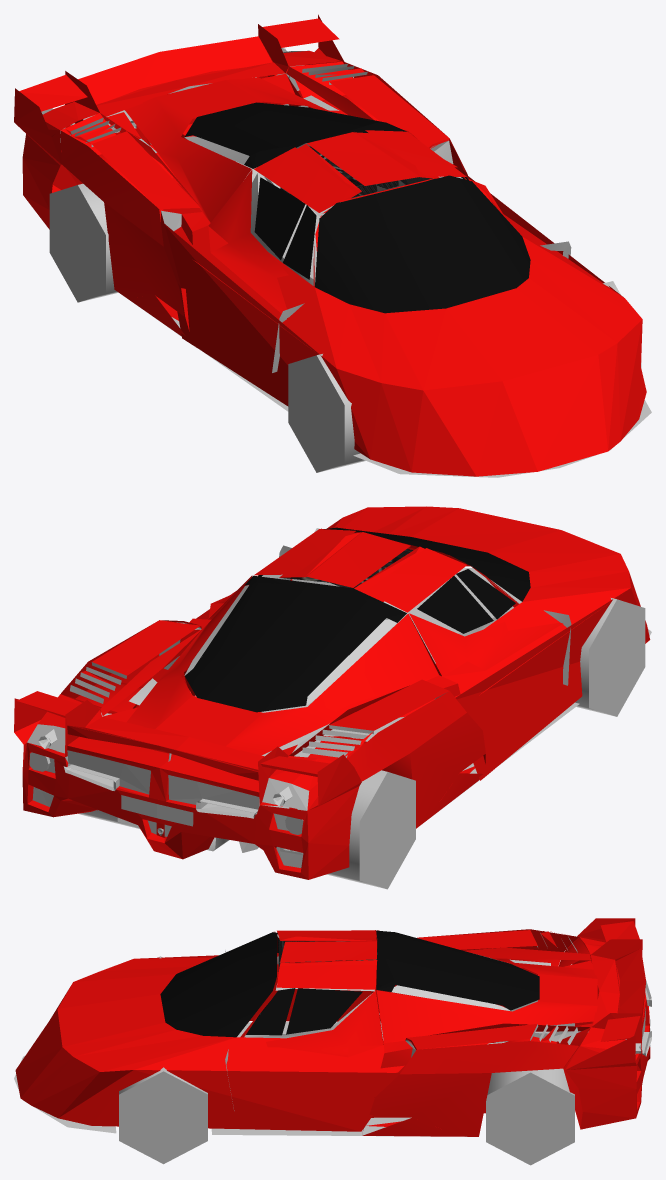
Rendered from FBX_Ferrari_FXX.FBX.
3 renders of one model, top to bottom at view 1: azimuth 30°, elevation 25°; view 2: azimuth 150°, elevation 25°; view 3: azimuth 270°, elevation 25°, orthographic. The views are drawn at different scales.
Parts seen in each view (by area): view 1: Body, Banh003, Banh2; view 2: Body, Banh003, Banh2; view 3: Body, Banh004, Banh1.
Part boxes in pixels (<box>): Body: <box>14,14,651,477</box>; Banh003: <box>49,183,118,302</box>; Banh2: <box>288,354,365,472</box>; Body: <box>14,506,651,879</box>; Banh003: <box>297,770,415,889</box>; Banh2: <box>575,598,645,716</box>; Body: <box>14,918,651,1136</box>; Banh004: <box>486,1068,574,1165</box>; Banh1: <box>119,1067,207,1164</box>.
Size of the model in its own units: 31.01 by 19.15 by 70.44.
